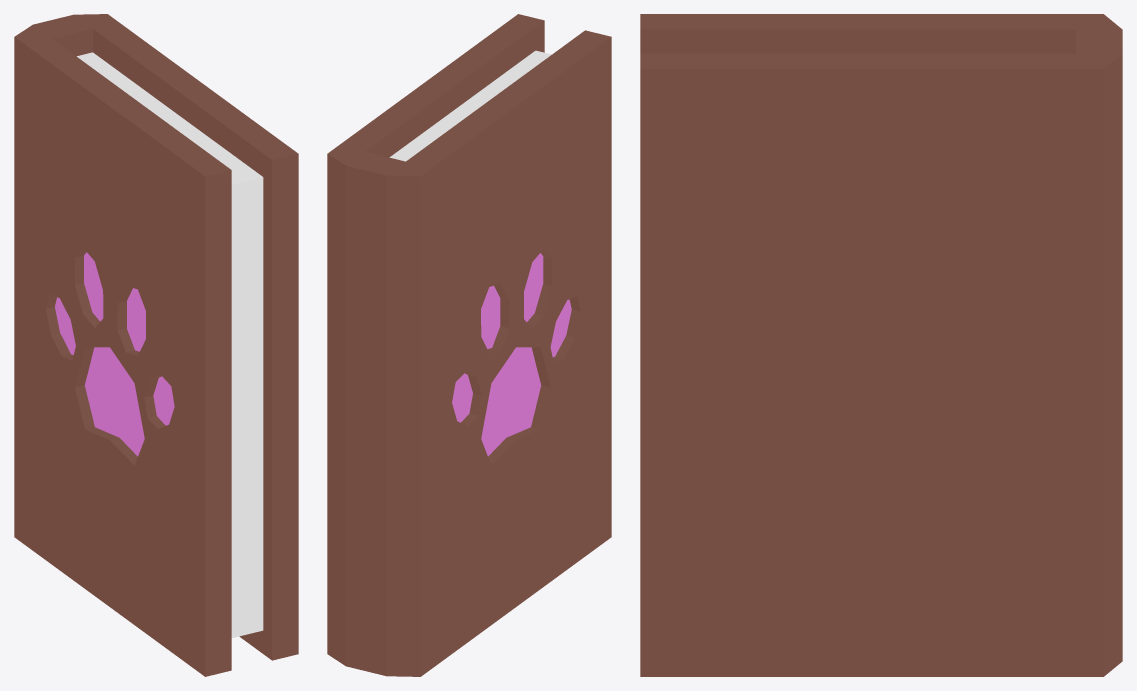
The model's file is 011_catBook.gltf.
The picture shows the model from 3 angles, left to right: view 1: azimuth 30°, elevation 25°; view 2: azimuth 150°, elevation 25°; view 3: azimuth 270°, elevation 25°; orthographic projection. The views are drawn at different scales.
Visible parts, largest first — view 1: Cube.001; view 2: Cube.001; view 3: Cube.001.
Part boxes in pixels (left/top/right/bottom): Cube.001: left=14, top=14, right=298, bottom=676; Cube.001: left=327, top=14, right=611, bottom=676; Cube.001: left=640, top=14, right=1122, bottom=676.
Size of the model in its own units: 0.943 by 4.84 by 3.48.
